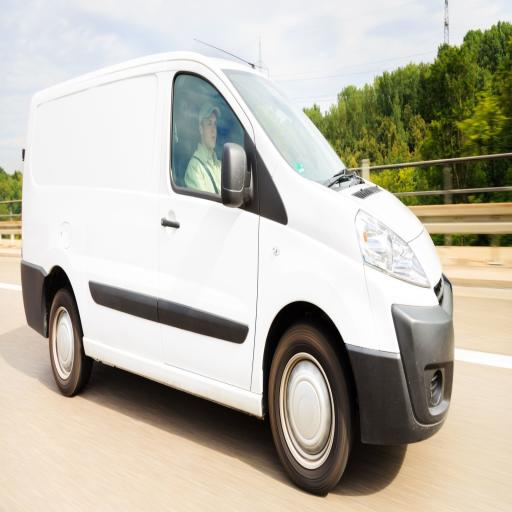van: (21, 53, 454, 492)
